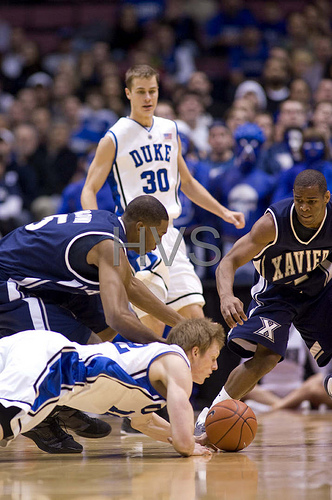basketball: (205, 399, 257, 452)
